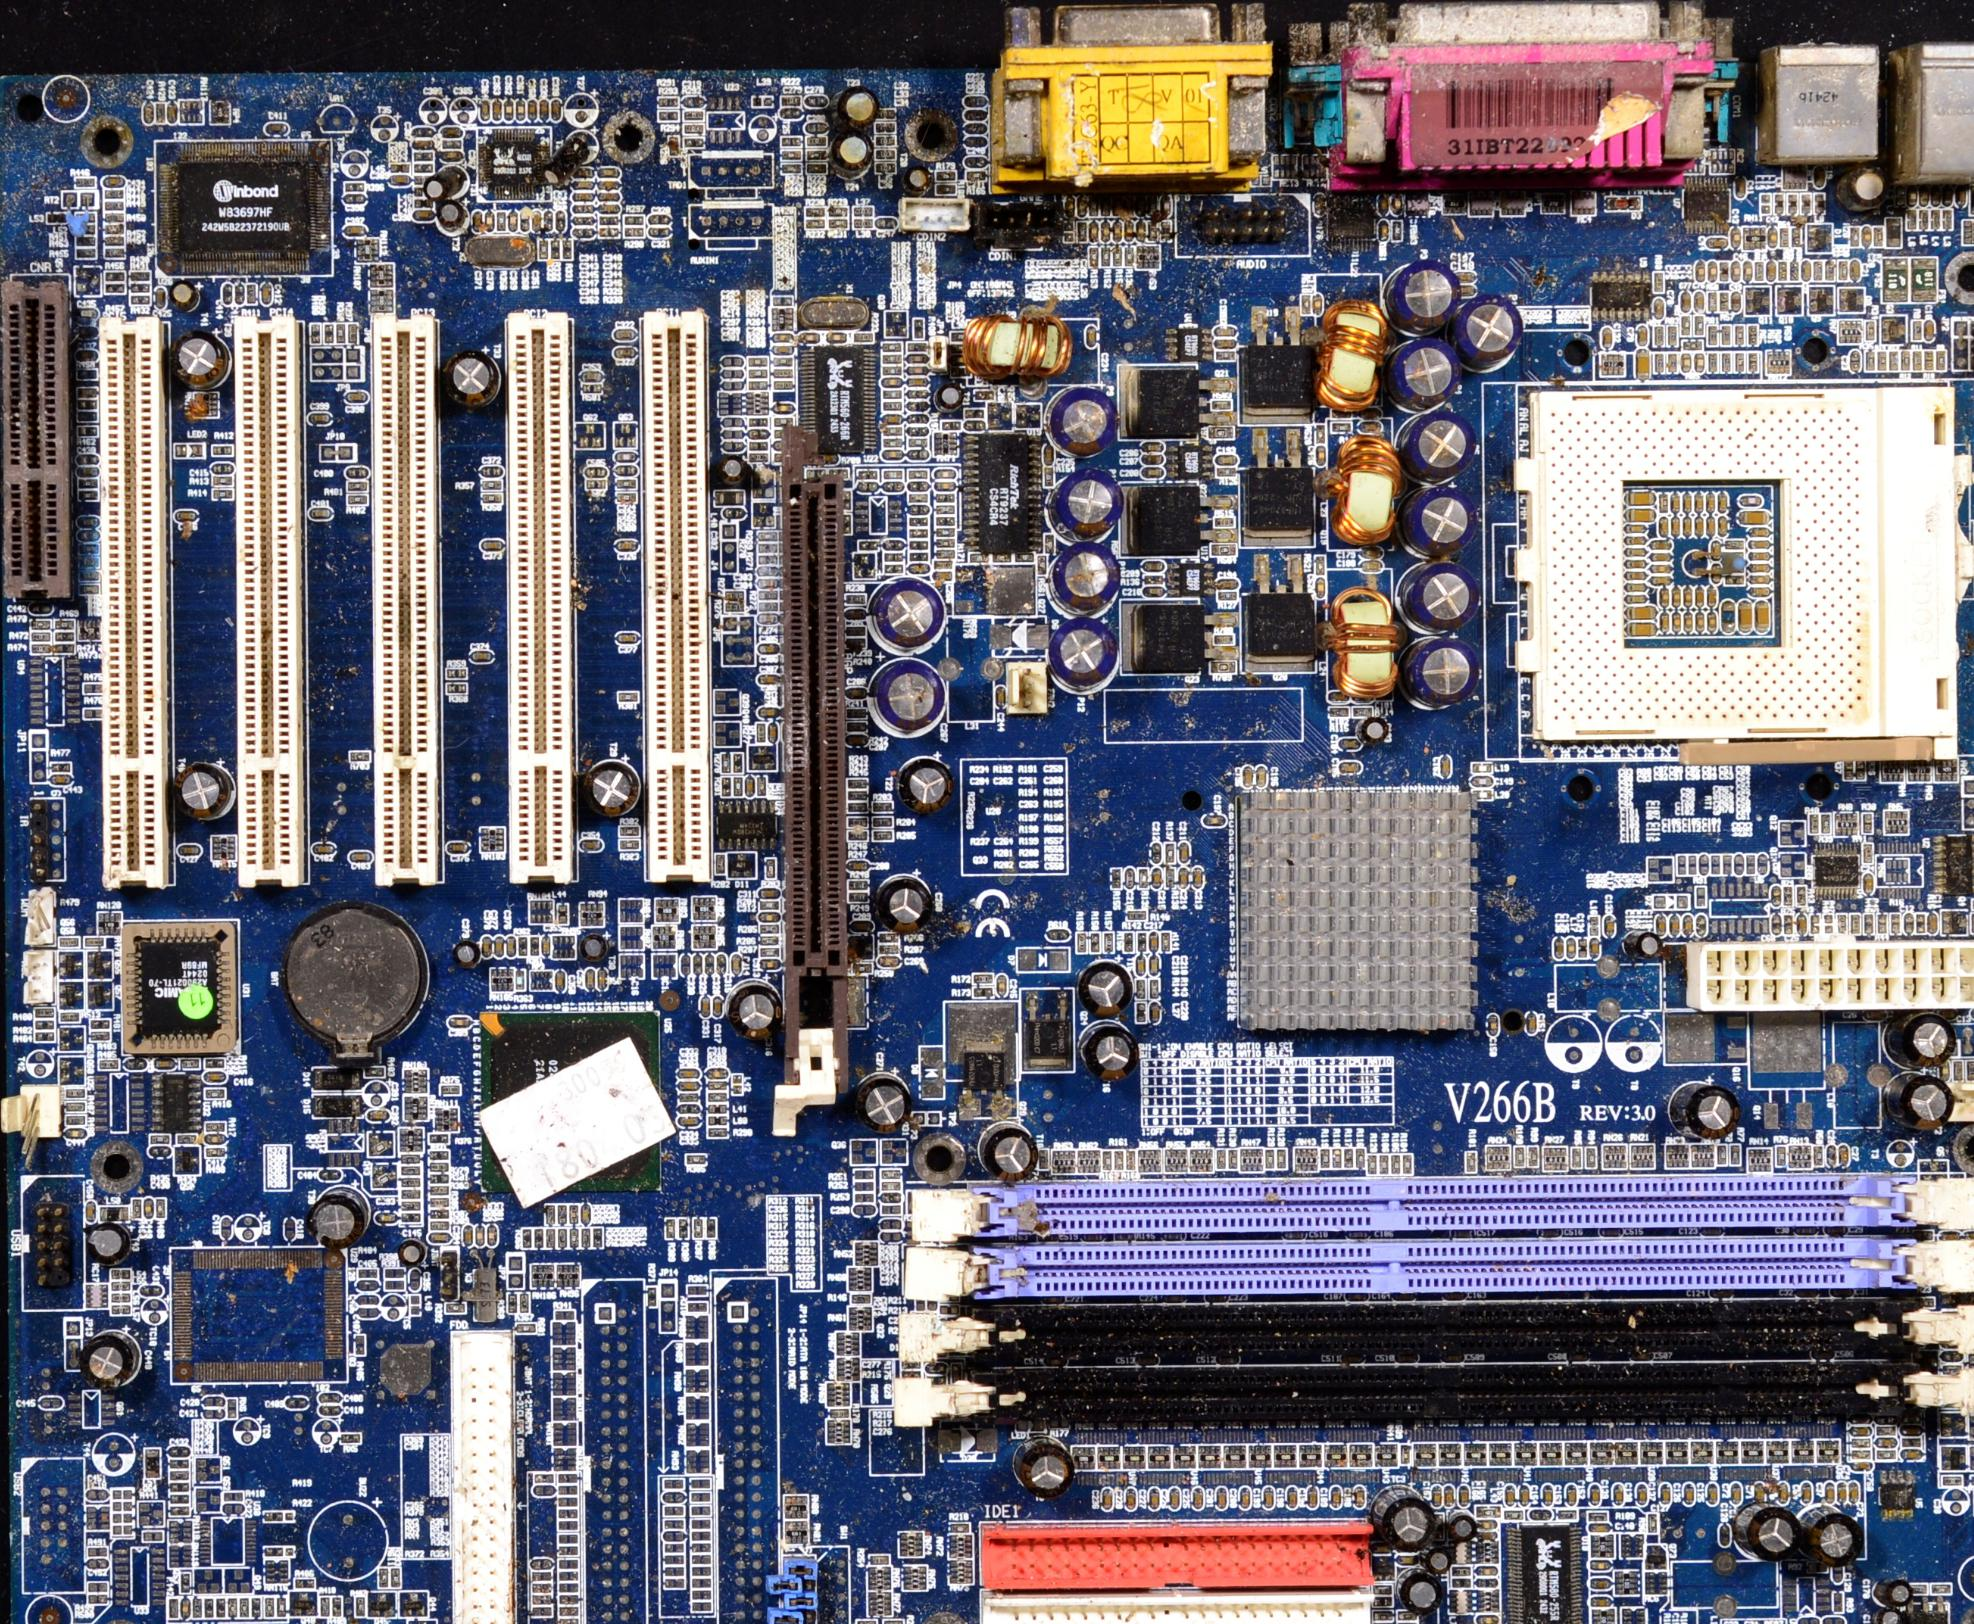Capacitor Jumper: (431, 336, 497, 410), (1407, 562, 1480, 626), (874, 582, 938, 652), (1395, 257, 1456, 328), (1054, 541, 1113, 613), (164, 313, 221, 387), (884, 664, 949, 728), (894, 759, 962, 819), (1894, 1008, 1959, 1070), (1046, 393, 1117, 449), (723, 982, 787, 1042), (1397, 334, 1453, 403), (580, 751, 638, 816), (1076, 1026, 1141, 1082), (1900, 1065, 1953, 1132), (1407, 416, 1466, 475), (175, 759, 238, 814), (1013, 1442, 1076, 1498), (1421, 641, 1476, 705), (1077, 960, 1133, 1019), (1681, 1080, 1740, 1134), (1379, 1499, 1438, 1552), (1744, 1506, 1800, 1558), (1462, 305, 1518, 356), (1810, 1519, 1871, 1565), (1417, 498, 1472, 546), (859, 1080, 908, 1131), (990, 1131, 1038, 1180), (318, 1198, 366, 1241), (82, 1337, 130, 1378), (87, 1226, 130, 1263), (1405, 1580, 1438, 1613), (167, 275, 195, 310), (438, 200, 471, 228), (1448, 1509, 1479, 1536), (543, 161, 569, 192), (582, 932, 605, 964), (453, 937, 475, 969), (420, 177, 448, 198), (1351, 1481, 1367, 1509), (1892, 1575, 1908, 1601), (398, 1244, 416, 1267), (1428, 1550, 1446, 1573), (280, 1396, 308, 1411), (343, 223, 367, 239), (149, 1059, 175, 1073), (202, 1070, 228, 1085), (1238, 1485, 1253, 1511), (310, 842, 334, 857), (1176, 867, 1190, 891), (503, 934, 518, 959), (479, 936, 493, 960), (582, 967, 597, 991), (995, 972, 1008, 998), (1189, 1488, 1202, 1514), (507, 208, 520, 234), (444, 839, 467, 854), (1164, 1486, 1179, 1509), (385, 174, 415, 185), (1513, 1488, 1531, 1506), (876, 955, 900, 969), (698, 995, 712, 1019), (1285, 1485, 1299, 1509), (259, 280, 272, 305), (1148, 955, 1161, 978), (553, 969, 566, 991), (107, 1490, 133, 1501), (82, 1590, 108, 1601), (482, 210, 495, 233), (825, 331, 848, 344), (797, 331, 820, 344), (757, 575, 780, 588), (757, 611, 780, 624), (1541, 1486, 1556, 1506), (600, 179, 620, 193), (935, 480, 954, 495), (715, 952, 726, 977), (1148, 1003, 1161, 1024), (1213, 1486, 1226, 1508), (757, 641, 779, 654), (1177, 841, 1189, 864), (679, 954, 690, 977), (679, 1078, 702, 1090), (90, 1580, 113, 1591), (649, 213, 672, 225), (648, 226, 671, 238), (771, 333, 794, 344), (903, 352, 926, 364), (1192, 869, 1205, 888), (703, 952, 713, 978), (1610, 1486, 1623, 1506), (1587, 1560, 1613, 1570), (772, 401, 792, 415), (202, 1398, 233, 1406), (1149, 869, 1161, 890), (539, 934, 551, 955), (492, 936, 503, 957), (1135, 955, 1146, 977), (597, 965, 608, 987), (1328, 1486, 1339, 1508), (1589, 1578, 1610, 1590), (1881, 1611, 1902, 1622), (572, 192, 594, 203), (1477, 1613, 1502, 1622), (571, 180, 595, 190), (905, 365, 930, 375), (905, 377, 930, 387), (1900, 1444, 1918, 1457), (744, 777, 756, 796), (352, 852, 372, 864), (757, 913, 780, 923), (1149, 929, 1159, 952), (692, 954, 702, 977), (549, 98, 559, 121), (1564, 1483, 1576, 1503), (113, 1526, 133, 1537), (1477, 1565, 1497, 1576), (597, 166, 620, 175), (597, 192, 620, 202), (882, 377, 902, 388), (882, 449, 905, 459), (757, 567, 780, 577), (759, 674, 779, 685), (100, 179, 126, 187), (854, 923, 876, 932), (516, 98, 526, 120), (757, 708, 779, 718), (475, 1226, 487, 1244), (1149, 1488, 1161, 1506), (674, 1070, 698, 1078), (1851, 1481, 1859, 1506), (1640, 354, 1648, 379), (761, 960, 780, 970), (712, 996, 721, 1016), (503, 100, 513, 120), (479, 100, 489, 120), (772, 344, 792, 354), (1756, 606, 1766, 626), (767, 723, 777, 742), (1103, 1486, 1112, 1509), (933, 469, 956, 477), (1630, 493, 1648, 503), (1633, 608, 1651, 618), (492, 98, 500, 120), (1310, 1488, 1317, 1514), (1221, 577, 1236, 588), (1697, 919, 1707, 936), (708, 1080, 725, 1090), (526, 100, 534, 120), (144, 1200, 152, 1219), (1838, 1483, 1846, 1503), (1733, 180, 1743, 197), (1854, 1429, 1867, 1440), (808, 97, 826, 105), (884, 416, 902, 424), (1339, 736, 1354, 746), (430, 1234, 451, 1241), (318, 1395, 339, 1401), (1126, 1488, 1133, 1509), (762, 890, 779, 898), (556, 211, 564, 228), (1146, 441, 1162, 449), (1315, 449, 1323, 465), (910, 505, 926, 513), (1741, 511, 1758, 519), (1741, 606, 1749, 623), (1800, 1485, 1812, 1496), (708, 1070, 728, 1077), (1825, 1483, 1831, 1503), (1256, 769, 1264, 783), (684, 98, 698, 107), (412, 1273, 420, 1288), (1640, 1486, 1648, 1501), (89, 1562, 103, 1570), (1849, 261, 1858, 275), (346, 395, 361, 403), (215, 465, 230, 474), (1636, 623, 1651, 631), (846, 687, 861, 695), (1776, 887, 1782, 905), (746, 431, 764, 438), (849, 610, 861, 619), (1341, 762, 1354, 770), (1244, 770, 1251, 787), (451, 1019, 467, 1026), (1828, 1150, 1836, 1164), (167, 103, 174, 120), (884, 1234, 897, 1242), (805, 121, 821, 128), (267, 126, 284, 133), (44, 1401, 57, 1409), (320, 1408, 336, 1414), (1730, 1486, 1738, 1499), (1705, 1488, 1713, 1501), (87, 1491, 100, 1499), (520, 210, 526, 226), (1733, 293, 1740, 310), (1638, 328, 1644, 344), (726, 357, 739, 365), (726, 418, 739, 426), (725, 441, 738, 449), (1361, 546, 1377, 552), (1669, 590, 1677, 603), (1797, 919, 1803, 934), (780, 110, 795, 116), (1590, 1485, 1597, 1499), (1684, 1486, 1690, 1501), (1217, 456, 1231, 462), (349, 469, 364, 475), (1926, 916, 1935, 928), (315, 508, 326, 516), (1659, 916, 1664, 934), (1558, 936, 1562, 954), (113, 1517, 131, 1522), (1671, 919, 1677, 932), (1684, 919, 1690, 932), (1507, 1488, 1513, 1501), (600, 206, 613, 213), (579, 216, 592, 223), (1769, 233, 1776, 246), (1710, 239, 1723, 246), (725, 372, 738, 379), (1364, 562, 1377, 569), (1707, 615, 1713, 628), (1672, 616, 1679, 629), (1210, 816, 1220, 824), (1571, 941, 1576, 957), (882, 1195, 898, 1200), (287, 1221, 292, 1237), (1435, 1485, 1438, 1509), (1592, 1524, 1608, 1529), (1930, 323, 1935, 339), (1603, 331, 1608, 347), (885, 544, 902, 549), (1774, 918, 1781, 929), (1841, 1149, 1848, 1160), (361, 1282, 372, 1288), (1776, 1488, 1782, 1499), (1866, 231, 1872, 243), (1707, 264, 1713, 275), (1800, 264, 1807, 275), (1218, 338, 1230, 344), (1661, 497, 1667, 508), (853, 736, 864, 742), (1151, 846, 1156, 860), (144, 103, 149, 118), (205, 1411, 220, 1416), (1661, 1488, 1666, 1503), (544, 213, 549, 228), (908, 392, 923, 397), (861, 483, 876, 488), (315, 411, 323, 420), (1864, 875, 1869, 888), (1603, 918, 1608, 931), (680, 1116, 694, 1121), (1459, 1491, 1466, 1501), (115, 1504, 128, 1509), (348, 197, 361, 202), (1697, 295, 1702, 308), (1220, 329, 1233, 334), (910, 428, 923, 433), (1141, 470, 1154, 475), (1707, 498, 1712, 511), (177, 511, 190, 516), (1635, 515, 1648, 519), (1684, 521, 1690, 531), (1672, 521, 1677, 534), (912, 564, 925, 569), (938, 570, 948, 577), (1659, 588, 1664, 601), (1630, 595, 1643, 600), (1661, 618, 1667, 628), (223, 1506, 241, 1509), (1125, 872, 1130, 883), (372, 1114, 384, 1119), (854, 1208, 866, 1213), (580, 1208, 585, 1219), (382, 1214, 393, 1219), (884, 1221, 895, 1226), (361, 1309, 372, 1314), (533, 215, 538, 226), (577, 229, 589, 234), (1731, 234, 1736, 246), (1744, 264, 1749, 275), (1731, 265, 1736, 277), (1746, 497, 1758, 501), (1684, 498, 1689, 510), (1754, 552, 1766, 557), (1653, 552, 1664, 557), (1695, 592, 1700, 603), (1697, 616, 1702, 628), (1318, 580, 1321, 597), (1441, 759, 1444, 773), (1474, 778, 1484, 783), (1590, 944, 1595, 954), (361, 1295, 371, 1300), (174, 1449, 184, 1454), (1758, 1488, 1761, 1503), (1477, 1583, 1492, 1586), (1315, 298, 1320, 308), (1656, 300, 1659, 315), (1699, 356, 1702, 370), (912, 405, 921, 410), (889, 483, 898, 488), (1720, 519, 1725, 529), (1695, 523, 1700, 533), (1631, 526, 1641, 531), (1628, 547, 1638, 552), (1654, 575, 1664, 580), (1630, 583, 1640, 588), (1684, 618, 1689, 628), (1907, 918, 1910, 931), (684, 1106, 697, 1109), (89, 1201, 92, 1214), (184, 1601, 187, 1614), (600, 218, 613, 221), (1682, 297, 1685, 310), (1751, 564, 1764, 567), (1708, 588, 1712, 601), (1766, 267, 1771, 275), (1659, 523, 1664, 531), (577, 206, 589, 210), (1697, 267, 1700, 279), (1717, 495, 1720, 506), (1674, 497, 1677, 508), (1708, 521, 1712, 533), (1751, 541, 1762, 544), (1654, 565, 1666, 569), (1754, 578, 1766, 582), (1751, 588, 1762, 592), (1685, 592, 1689, 603), (1485, 1524, 1492, 1529), (603, 228, 613, 231), (728, 383, 738, 387), (913, 415, 920, 420), (1149, 457, 1159, 460), (213, 490, 223, 493), (1695, 498, 1699, 508), (1633, 538, 1640, 542), (1630, 560, 1640, 564), (1800, 1621, 1817, 1622), (969, 421, 977, 424), (1753, 529, 1761, 533), (1654, 542, 1662, 546), (1687, 354, 1689, 369), (1630, 575, 1644, 577), (1826, 1621, 1840, 1622), (726, 434, 739, 436), (215, 480, 226, 482), (910, 485, 921, 487)
Connector: (500, 311, 590, 883), (95, 313, 167, 887), (641, 310, 712, 888), (369, 316, 438, 893), (244, 310, 297, 877)
IC: (162, 166, 331, 264), (116, 924, 239, 1047), (961, 433, 1044, 562), (1518, 1531, 1569, 1622), (816, 354, 856, 441), (967, 1054, 1005, 1091), (1943, 836, 1969, 883), (1881, 1481, 1912, 1516), (1599, 284, 1636, 310), (1820, 857, 1856, 883), (726, 816, 767, 839), (1692, 193, 1725, 221), (1184, 565, 1200, 590), (1182, 447, 1194, 472), (1182, 331, 1194, 354)
Resistor Jumper: (144, 1447, 162, 1481), (549, 1321, 572, 1344), (515, 967, 526, 995), (177, 1057, 198, 1072), (848, 829, 871, 842), (1162, 839, 1176, 862), (762, 855, 775, 878), (1110, 867, 1123, 890), (207, 1057, 230, 1070), (880, 424, 907, 436), (713, 852, 725, 877), (877, 932, 902, 944), (495, 210, 507, 234), (621, 226, 646, 238), (879, 352, 903, 364), (879, 364, 903, 375), (754, 529, 779, 541), (757, 554, 782, 565), (1089, 932, 1102, 954), (882, 400, 903, 413), (844, 592, 866, 605), (623, 213, 646, 225), (880, 438, 903, 449), (848, 878, 867, 891), (1102, 932, 1115, 952), (882, 388, 902, 401), (879, 469, 905, 479), (846, 801, 867, 813), (846, 816, 867, 828), (1076, 932, 1087, 954), (748, 367, 769, 379), (757, 541, 779, 552), (877, 944, 902, 954), (848, 777, 867, 788), (731, 777, 743, 796), (757, 901, 780, 911), (879, 342, 902, 352), (746, 356, 766, 367), (771, 357, 794, 367), (907, 438, 930, 447), (935, 526, 954, 538), (757, 601, 780, 611), (872, 801, 894, 811), (872, 829, 894, 839), (1139, 869, 1149, 890), (907, 469, 928, 479), (720, 754, 730, 773), (848, 790, 867, 800), (872, 816, 892, 826), (848, 891, 867, 901), (761, 947, 780, 957), (97, 1060, 116, 1070), (549, 238, 559, 257), (31, 1023, 54, 1031), (759, 936, 777, 946), (562, 241, 572, 259), (759, 592, 777, 601), (757, 924, 779, 932), (33, 1032, 54, 1041), (935, 539, 956, 547), (849, 860, 866, 870), (856, 470, 874, 479), (808, 151, 830, 157), (297, 1580, 313, 1588), (971, 977, 990, 983), (1212, 547, 1231, 554), (431, 1196, 446, 1204), (154, 1201, 162, 1216), (661, 111, 675, 120), (784, 138, 798, 146), (1218, 515, 1233, 523), (89, 1550, 107, 1557), (784, 152, 802, 159), (659, 98, 675, 105), (1817, 1145, 1823, 1162), (1571, 1150, 1577, 1167), (689, 138, 702, 146), (1835, 1596, 1843, 1609), (1710, 329, 1717, 346), (1218, 351, 1235, 357), (1220, 593, 1236, 600), (851, 721, 864, 729), (723, 780, 730, 795), (1128, 911, 1143, 918), (1136, 980, 1143, 995), (443, 1088, 457, 1095), (403, 1170, 418, 1177), (856, 1170, 871, 1177), (857, 1195, 872, 1201), (357, 1337, 364, 1352), (77, 177, 92, 184), (346, 180, 361, 187), (1669, 354, 1676, 369), (1218, 398, 1228, 408), (1213, 428, 1228, 434), (1318, 426, 1325, 441), (746, 456, 761, 462), (887, 565, 902, 572), (1212, 665, 1231, 670), (1584, 1150, 1590, 1164), (1517, 1150, 1523, 1164), (403, 1201, 416, 1208), (433, 1209, 446, 1216), (667, 1221, 674, 1234), (156, 105, 162, 118), (241, 1601, 248, 1614), (107, 284, 120, 290), (1656, 356, 1662, 369), (748, 442, 761, 449), (1125, 934, 1130, 950), (1123, 1152, 1128, 1168), (867, 1555, 884, 1560), (252, 1598, 257, 1614), (230, 1601, 234, 1617), (1695, 315, 1700, 331), (774, 370, 790, 375), (1162, 936, 1169, 947), (1530, 1149, 1536, 1160), (433, 1188, 444, 1195), (687, 111, 698, 118), (359, 1270, 371, 1277), (174, 1462, 185, 1468), (108, 226, 120, 233), (1735, 331, 1741, 342), (966, 406, 977, 413), (349, 497, 361, 503), (849, 628, 861, 634), (735, 755, 739, 770), (402, 1190, 416, 1195), (548, 1208, 553, 1223), (707, 1218, 712, 1232), (682, 1219, 687, 1234), (685, 123, 700, 128), (539, 243, 544, 257), (1302, 298, 1307, 313), (1913, 324, 1918, 339), (1723, 329, 1728, 344), (1881, 354, 1885, 369), (751, 382, 766, 387), (910, 495, 925, 500), (846, 710, 861, 714), (757, 726, 762, 741), (1151, 980, 1156, 993), (369, 1068, 379, 1075), (684, 1095, 697, 1100), (1779, 1149, 1784, 1162), (1277, 1152, 1282, 1165), (687, 1157, 697, 1164), (884, 1209, 897, 1214), (559, 1209, 564, 1223), (343, 1437, 352, 1444), (808, 138, 818, 144), (323, 1599, 328, 1613), (218, 1599, 223, 1613), (1374, 1613, 1387, 1617), (105, 192, 118, 197), (108, 238, 121, 243), (1669, 328, 1674, 341), (1935, 354, 1940, 367), (1712, 357, 1717, 370), (774, 380, 787, 385), (912, 552, 925, 557), (848, 641, 861, 646), (857, 1619, 876, 1622), (1658, 328, 1661, 346), (1323, 1150, 1328, 1162), (1218, 1154, 1223, 1165), (1394, 1159, 1399, 1170), (134, 1201, 139, 1213), (408, 1216, 420, 1221), (433, 1224, 444, 1229), (1454, 1581, 1466, 1586), (264, 1601, 269, 1613), (193, 1601, 198, 1613), (108, 251, 120, 256), (107, 270, 118, 275), (134, 285, 146, 290), (1748, 354, 1753, 365), (974, 392, 985, 397), (751, 418, 762, 423), (352, 485, 364, 490), (912, 541, 923, 546), (887, 556, 898, 560), (357, 1598, 361, 1614), (974, 990, 984, 995), (1735, 1149, 1738, 1164), (1344, 1150, 1348, 1165), (1335, 1150, 1338, 1165), (1380, 1157, 1384, 1172), (1369, 1157, 1372, 1172), (433, 1173, 443, 1178), (571, 1208, 575, 1218), (387, 1285, 397, 1290), (1377, 1586, 1387, 1591), (333, 1598, 336, 1613), (171, 1599, 174, 1614), (131, 272, 141, 277), (1684, 315, 1687, 329), (1736, 354, 1741, 364), (938, 518, 948, 523), (864, 542, 874, 547), (1139, 934, 1143, 947), (1720, 1149, 1723, 1162), (405, 1157, 418, 1160), (169, 1475, 182, 1478), (277, 1599, 280, 1613), (808, 167, 821, 170), (107, 203, 120, 206), (1726, 352, 1730, 365), (1925, 354, 1928, 367), (1890, 356, 1894, 369), (910, 519, 923, 523), (431, 1134, 439, 1139), (174, 1485, 182, 1490), (939, 495, 948, 500), (912, 529, 920, 534), (939, 551, 948, 556), (708, 1096, 720, 1100), (785, 100, 797, 103), (433, 1152, 444, 1155), (1115, 1152, 1118, 1164), (1269, 1154, 1272, 1165), (1103, 1155, 1107, 1167), (1228, 1155, 1231, 1167), (1469, 1155, 1472, 1167), (431, 1164, 443, 1167), (403, 1180, 415, 1183), (885, 1183, 897, 1186), (382, 1573, 385, 1585), (1372, 1599, 1384, 1603), (1397, 1613, 1408, 1616), (1749, 331, 1753, 342), (938, 510, 949, 513), (885, 1173, 895, 1177), (385, 1272, 395, 1275), (174, 1506, 184, 1509), (1456, 1568, 1466, 1572), (184, 1576, 187, 1586), (207, 1601, 210, 1611), (108, 216, 116, 220), (130, 298, 144, 300), (1917, 352, 1918, 367), (1907, 354, 1908, 369), (784, 164, 790, 167), (1869, 354, 1871, 367), (1405, 1157, 1407, 1168), (936, 564, 948, 565), (1359, 1154, 1361, 1164), (856, 1185, 866, 1186), (695, 1221, 697, 1231), (392, 1573, 393, 1583), (174, 1496, 182, 1498)
Transistor: (1139, 374, 1184, 426), (1261, 469, 1302, 524), (1259, 352, 1305, 400), (1143, 606, 1184, 655), (1141, 490, 1184, 536), (1254, 605, 1295, 647), (59, 977, 84, 1011), (61, 1054, 84, 1088), (85, 952, 113, 980), (85, 980, 111, 1008), (1908, 1604, 1948, 1622), (57, 1029, 85, 1054), (59, 954, 80, 972), (290, 1593, 308, 1613), (1838, 292, 1856, 310), (1882, 321, 1900, 339), (1815, 228, 1830, 249), (1946, 914, 1963, 932), (754, 751, 771, 767), (372, 1596, 385, 1616), (1810, 292, 1825, 308), (407, 1596, 420, 1614), (1781, 290, 1794, 308), (1646, 1549, 1662, 1562), (1379, 1558, 1389, 1576), (1753, 292, 1764, 305)
